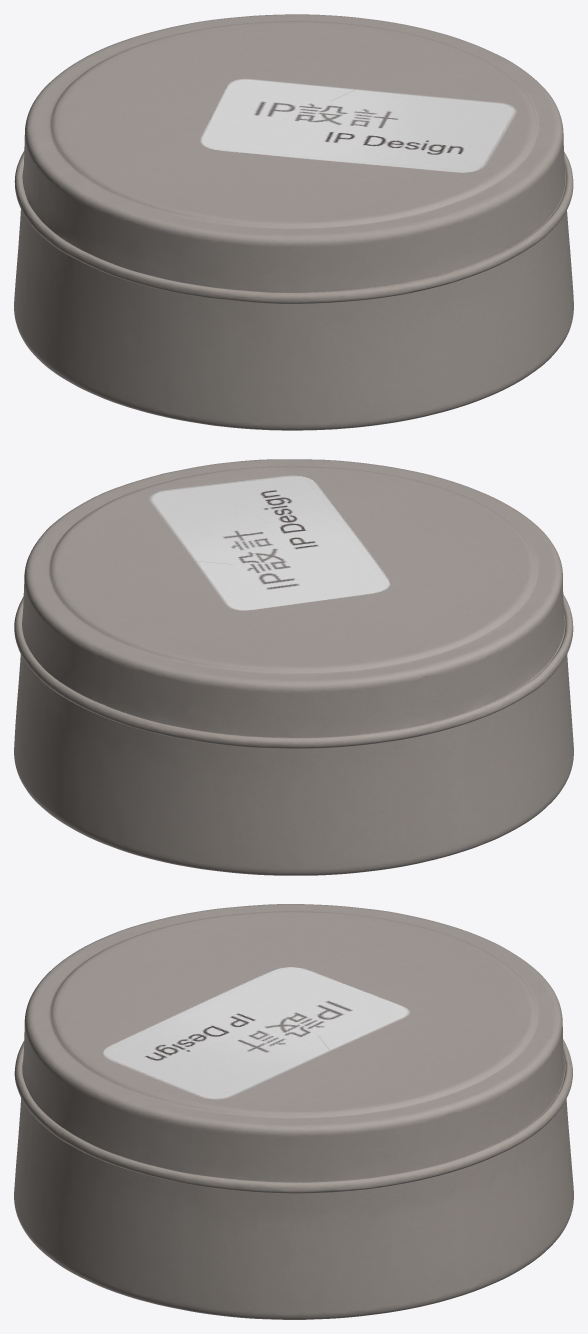
File: white-ip-20261025.glb
The picture shows the model from 3 angles, top to bottom: view 1: azimuth 30°, elevation 25°; view 2: azimuth 150°, elevation 25°; view 3: azimuth 270°, elevation 25°; orthographic projection.
Bounding box in the file's own units: 1.9 × 0.724 × 1.9.
Materials: 1 (1 with a texture image).
